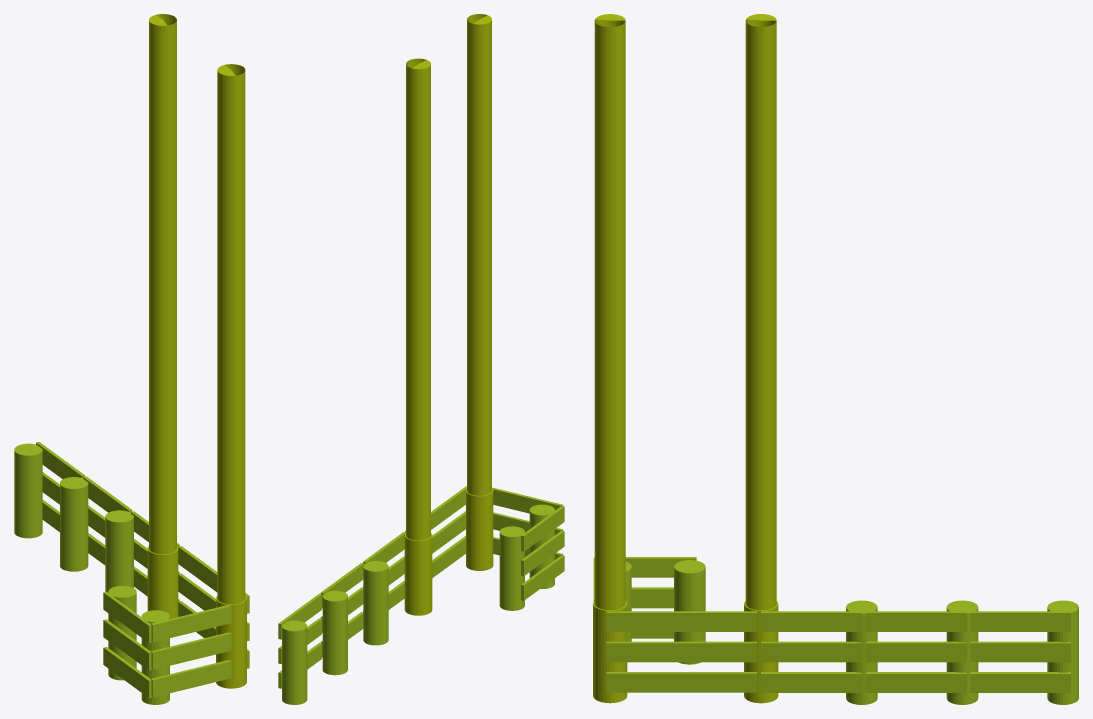
Rendered from airdoorLeft.obj.
The picture shows the model from 3 angles, left to right: view 1: azimuth 30°, elevation 25°; view 2: azimuth 150°, elevation 25°; view 3: azimuth 270°, elevation 25°; orthographic projection. The views are drawn at different scales.
Size of the model in its own units: 0.3208 by 1.78 by 1.16.
